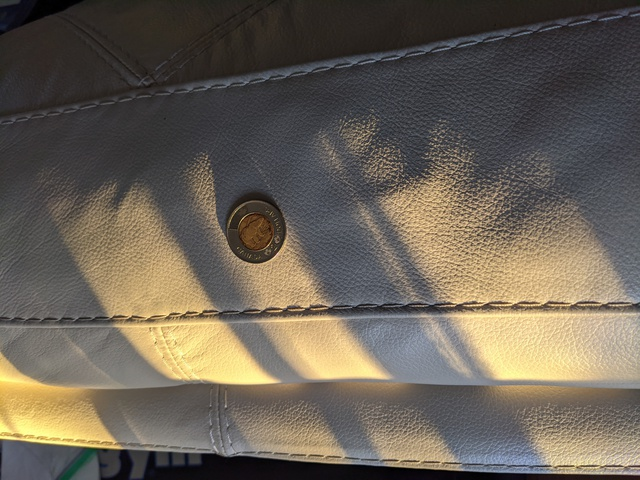twonie: (215, 199, 296, 266)
